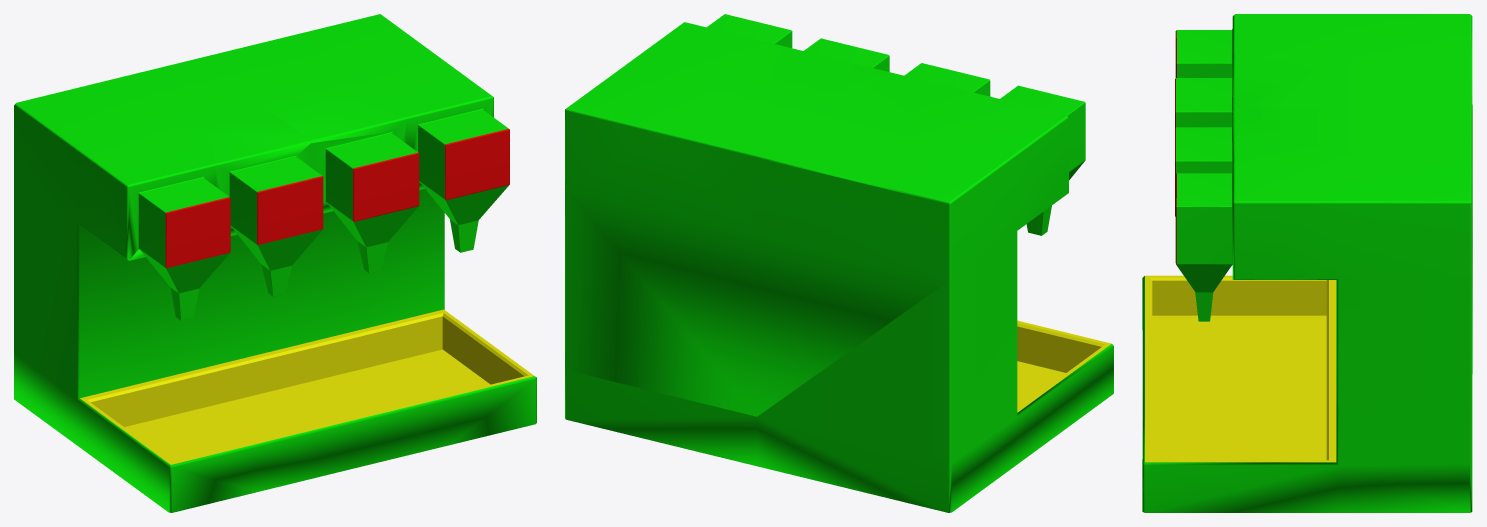
The model's file is DrinkMachine.fbx.
3 views of the same model, side by side, from view 1: azimuth 30°, elevation 25°; view 2: azimuth 150°, elevation 25°; view 3: azimuth 270°, elevation 25° (orthographic). The views are drawn at different scales.
Visible parts, largest first — view 1: DrinkMachine; view 2: DrinkMachine; view 3: DrinkMachine.
Part boxes in pixels (box(x1,y1,x2,y2)): DrinkMachine: box(14, 14, 536, 512); DrinkMachine: box(565, 14, 1113, 512); DrinkMachine: box(1142, 14, 1472, 512).
Size of the model in its own units: 1.3 by 1 by 0.9612.
